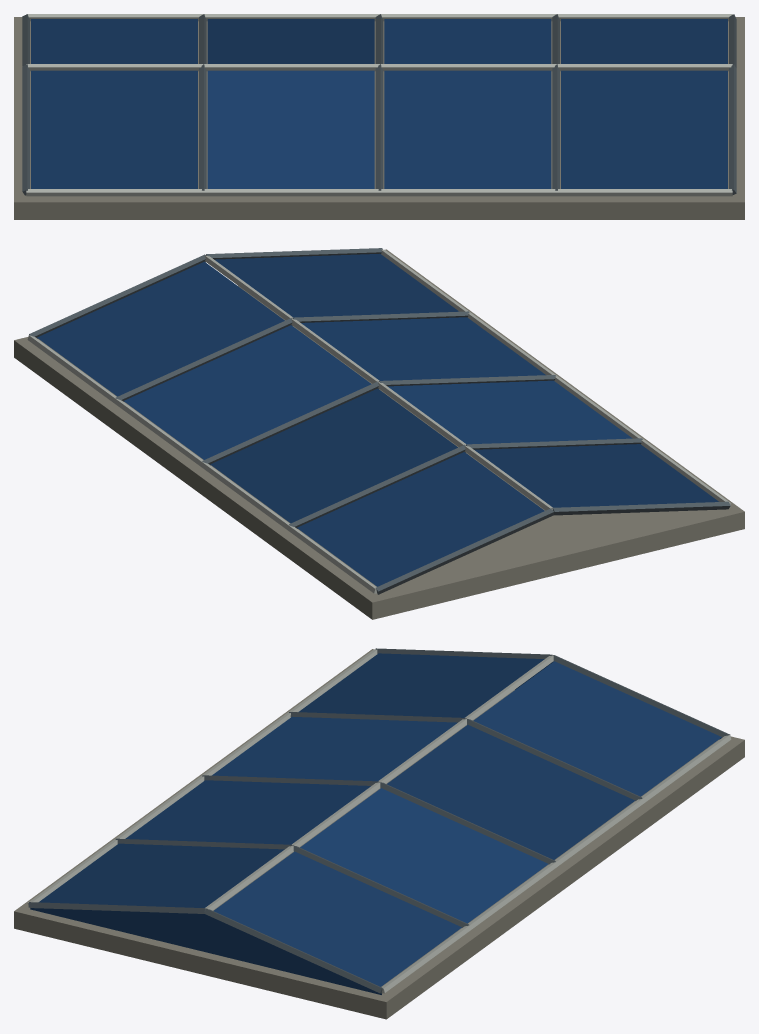
Rendered from FluffSystem-01-Building-07-GlassRoof-2-04.glb.
3 views of the same model, one above another, from view 1: azimuth 30°, elevation 25°; view 2: azimuth 150°, elevation 25°; view 3: azimuth 270°, elevation 25° (orthographic).
Parts seen in each view (by area): view 1: FluffSystem-01-Building-07-GlassRoof-2-04; view 2: FluffSystem-01-Building-07-GlassRoof-2-04; view 3: FluffSystem-01-Building-07-GlassRoof-2-04.
Boxes of the visible parts, x1,y1,x2,y2 form: FluffSystem-01-Building-07-GlassRoof-2-04: (14, 14, 744, 219); FluffSystem-01-Building-07-GlassRoof-2-04: (14, 248, 744, 619); FluffSystem-01-Building-07-GlassRoof-2-04: (14, 648, 744, 1019).
Size of the model in its own units: 69.96 by 5.71 by 61.18.
